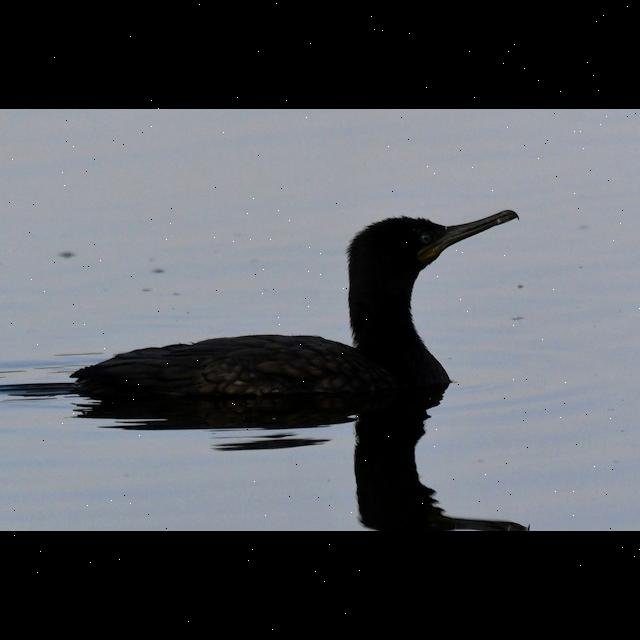cormorant: (58, 200, 524, 420)
